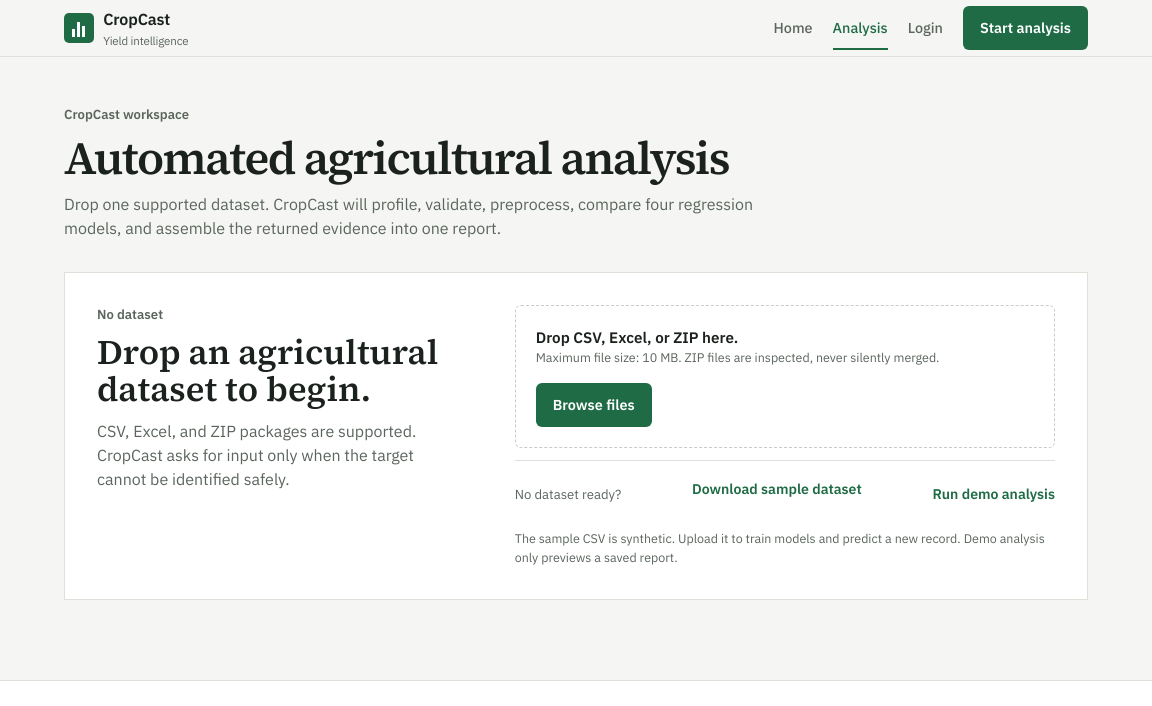
Test: CropCast routes › opens the uploader when starting a new analysis from an existing report
The width and height of the screenshot is (1152, 706).
Click the button "Run demo analysis" at (994, 495), box [932,473,1055,517]
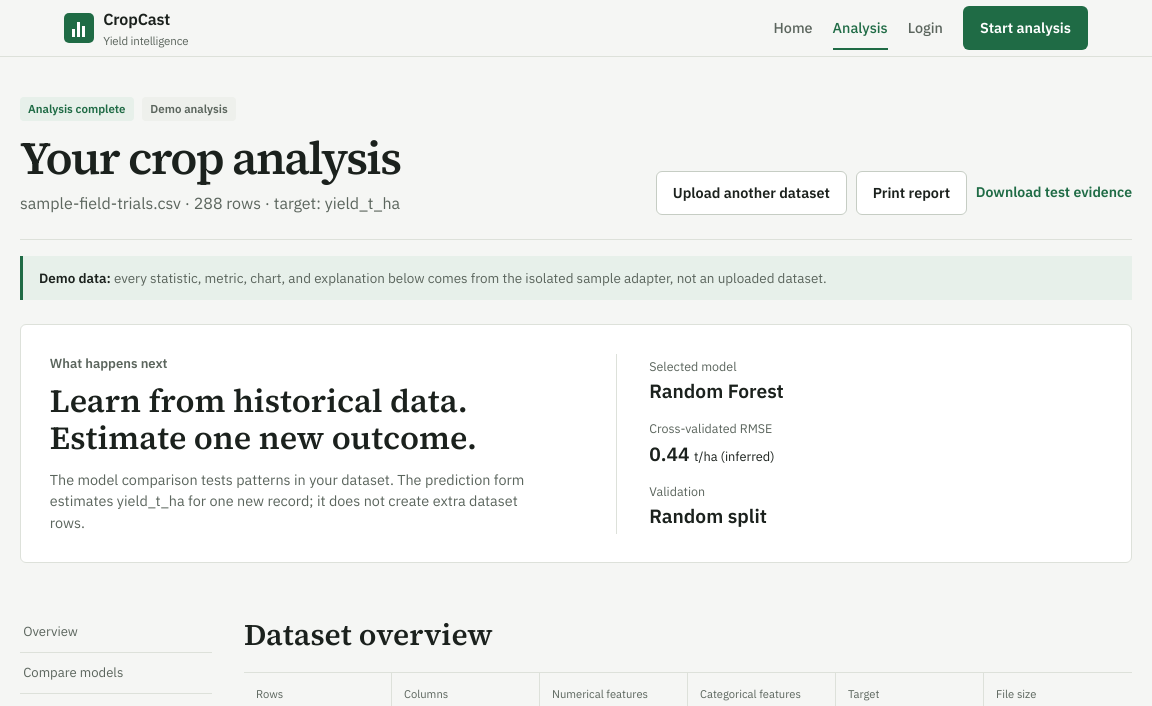
expect the button "Upload another dataset" is shown: met, box [656,171,847,215]
Click the link "Start analysis" at (1025, 28), box [963,6,1088,50]
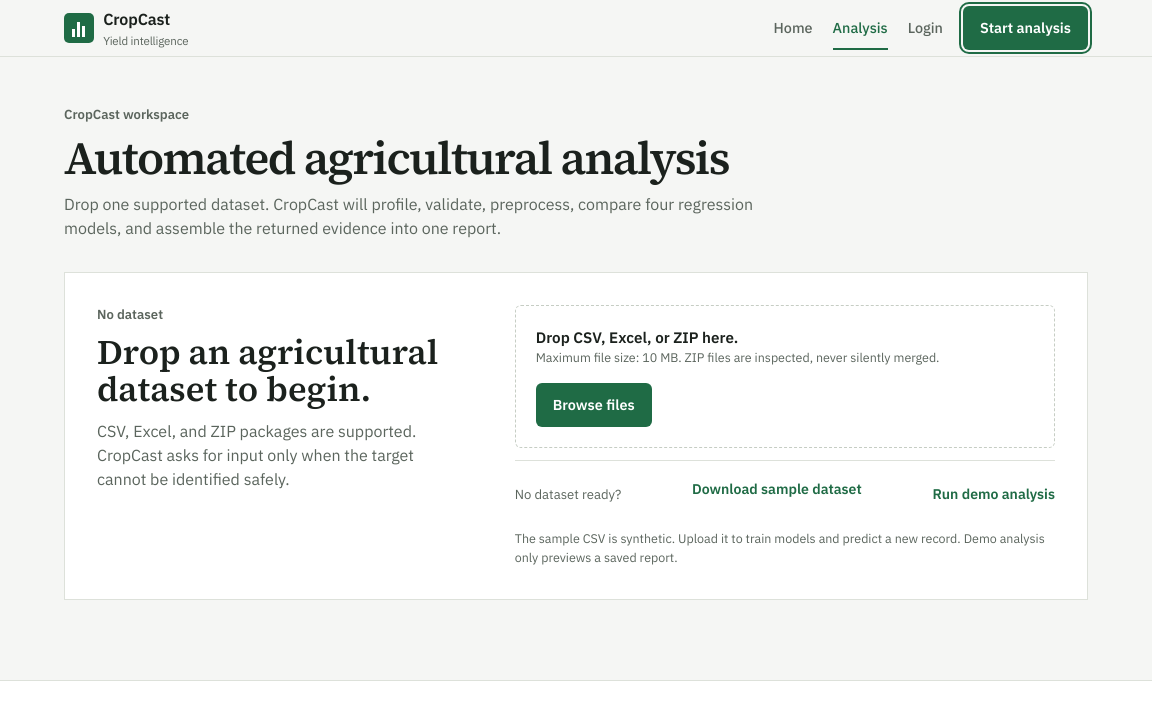
expect the button "Browse files" is shown: met, box [536,383,652,427]
expect the button "Upload another dataset" is gone: met
